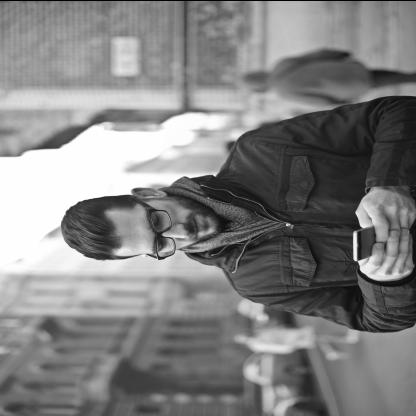Eye: (148, 210, 164, 226), (152, 237, 168, 252)
Mouth: (190, 216, 208, 238)
Nose: (158, 223, 191, 238)
